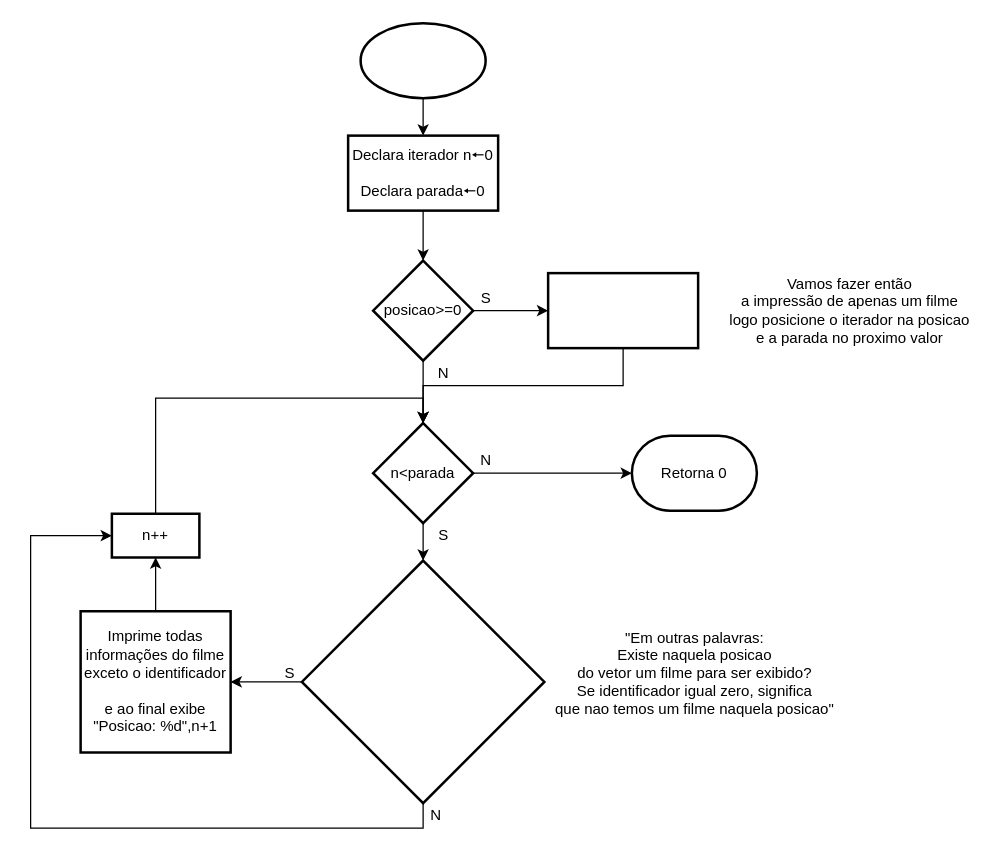
This 1003x860 diagram has some shape labels left out. Each missing label, with the centre of its shape:
imprimeFilmes (Filme *ptr, int posicao): point 422,60
n🠔posicao parada🠔posicao+1: point 622,310
O identificador do vetor é diferente de zero? (ptr[n].identificador!=0): point 422,681
